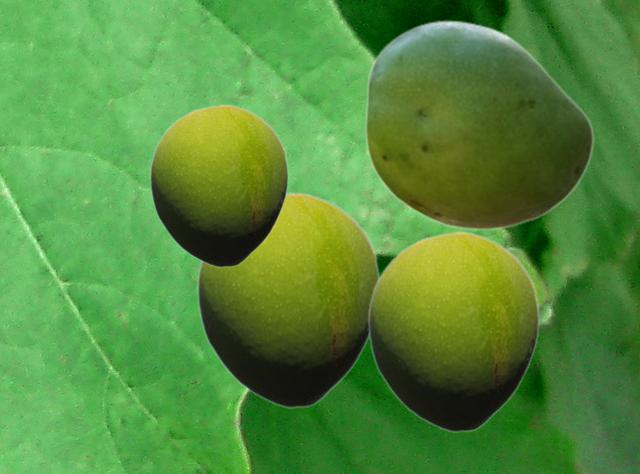green_mango: (364, 19, 593, 230), (196, 192, 380, 408), (367, 231, 539, 432), (149, 104, 288, 267)
